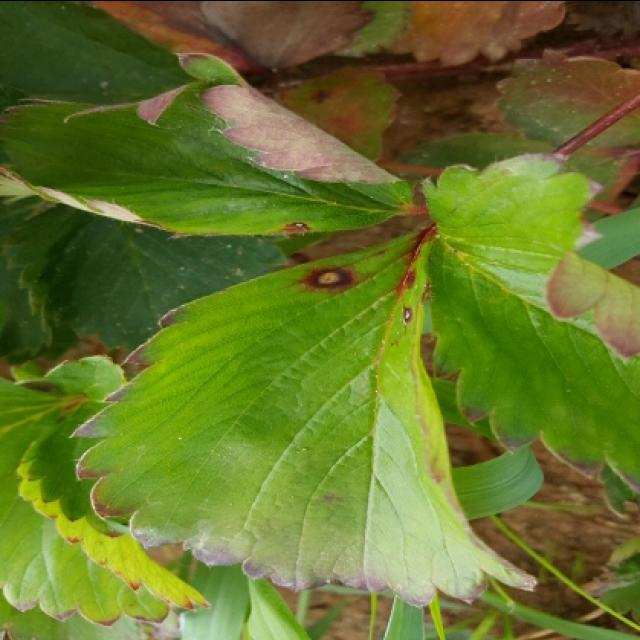Leaf Spot: (69, 225, 540, 609), (0, 46, 413, 236)
